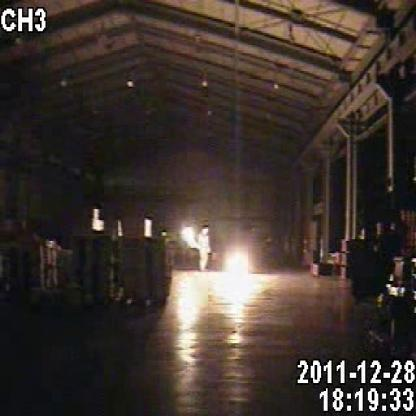fire: (202, 234, 281, 325)
